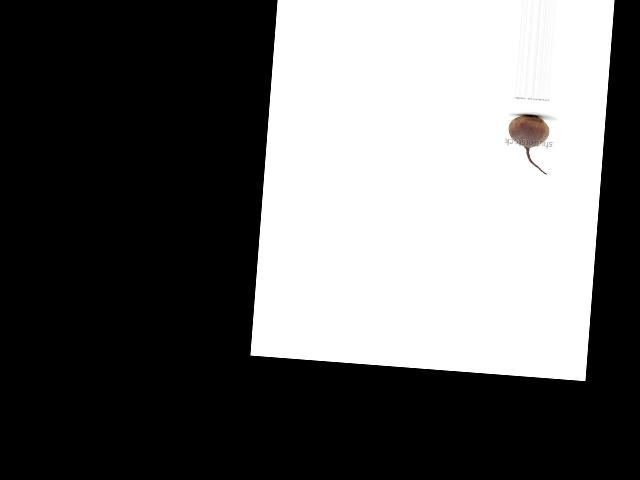beet: (504, 113, 551, 174)
